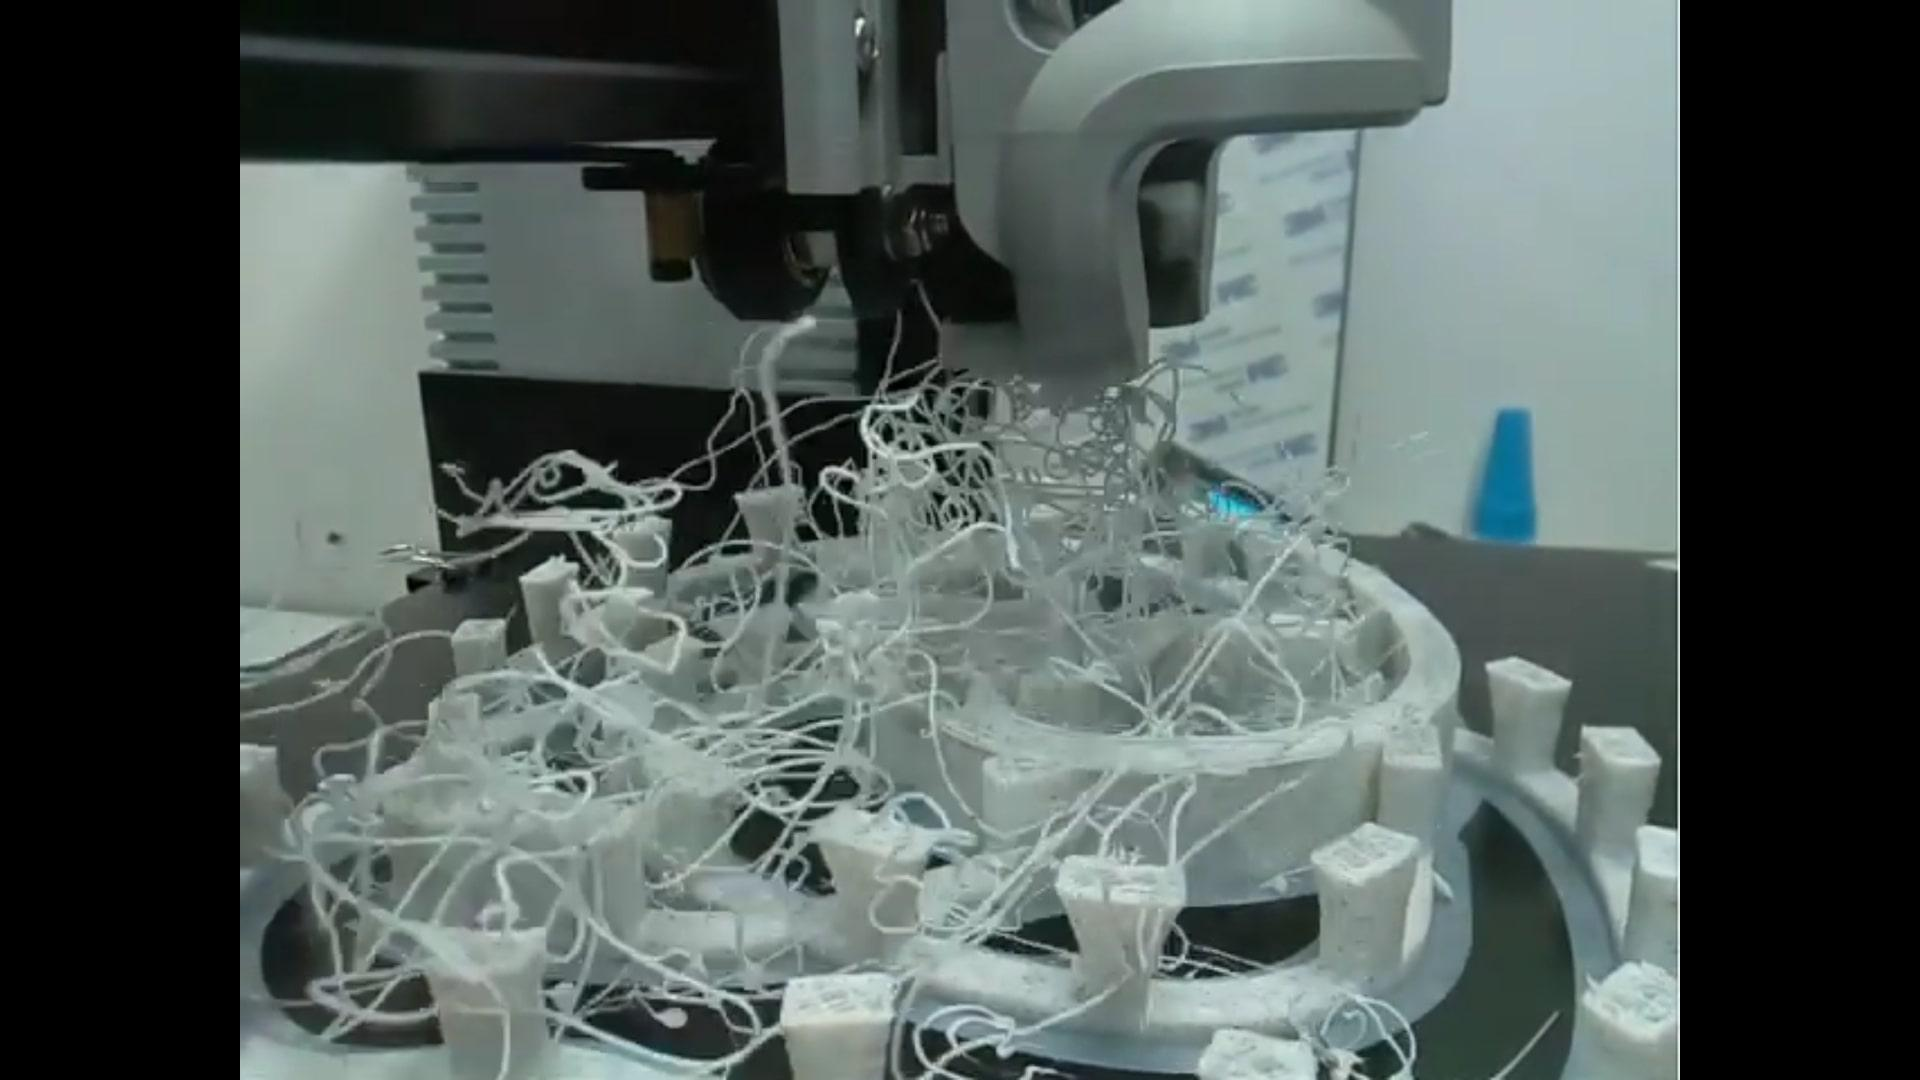Printing-Artifact: (459, 425, 858, 1005), (825, 363, 1215, 624)
